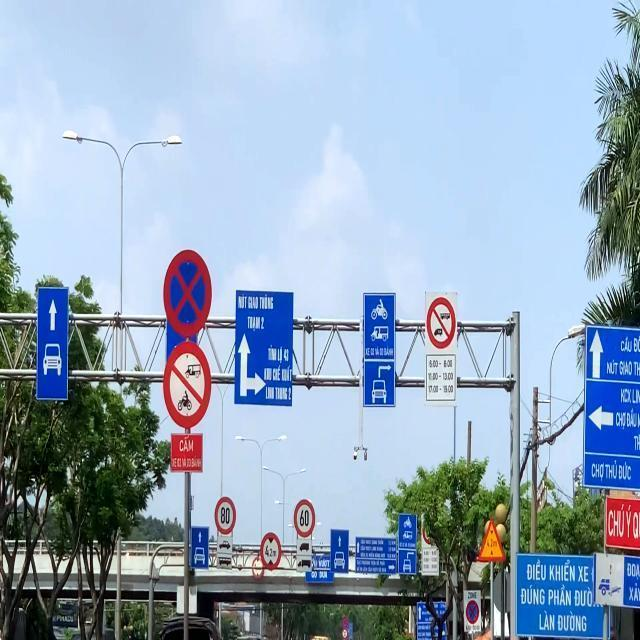127-toc-do-toi-da-60: (292, 498, 318, 538)
127-toc-do-toi-da-80: (213, 497, 236, 535)
130-cam-dung-va-do-xe: (162, 249, 215, 336), (465, 602, 479, 624)
